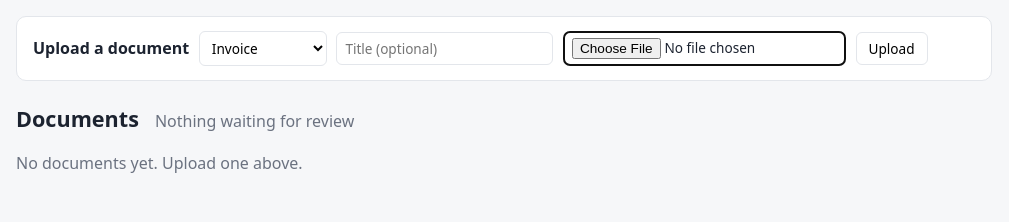
Test: review screen fixes › a non-PDF upload says "That file isn't a PDF." (detail and list)
The width and height of the screenshot is (1009, 222).
Earlier steps of the test are not shown.
Later steps or results of the test are not shown.
expect the text "No documents yet. Upload one above." is shown: met, box [16,152,303,174]
Click the button "Upload". click: click(892, 48)
box: [856,32,928,65]
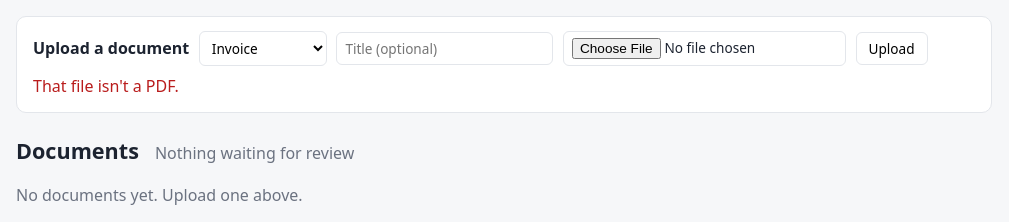
expect the text "That file isn't a PDF." is shown: met, box [33,75,179,97]
